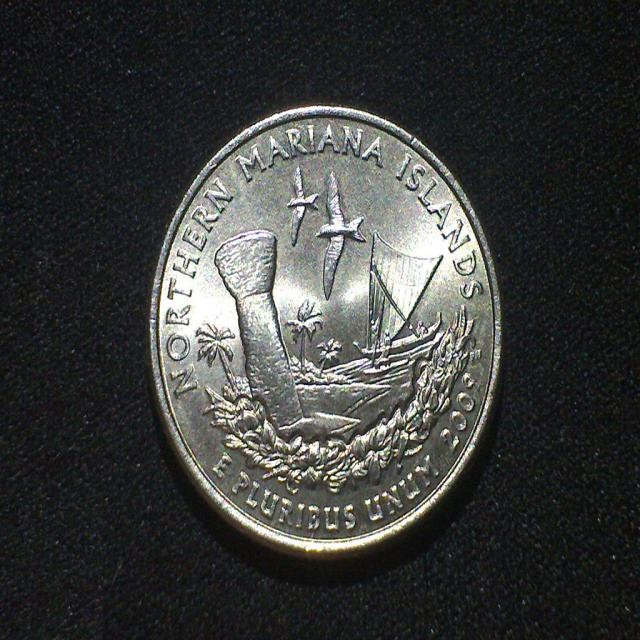Coin: (148, 102, 505, 557)
